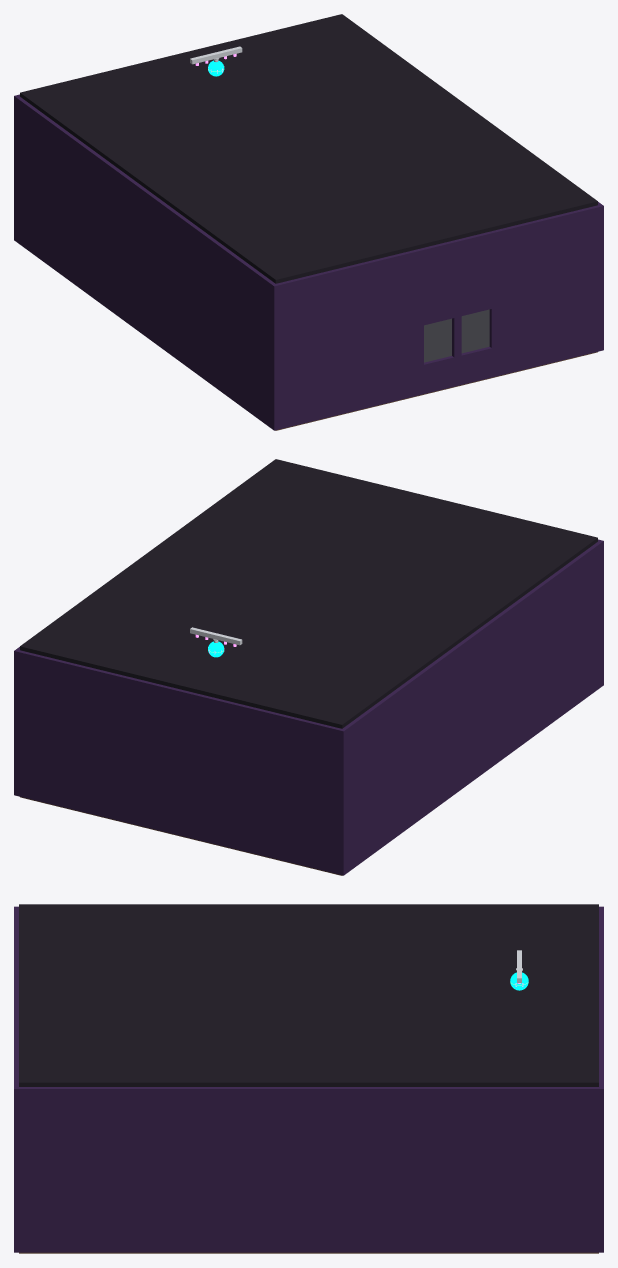
The model's file is monday-night-stage-arch-v2-world.glb.
3 views of the same model, one above another, from view 1: azimuth 30°, elevation 25°; view 2: azimuth 150°, elevation 25°; view 3: azimuth 270°, elevation 25° (orthographic). The views are drawn at different scales.
Parts seen in each view (by area): view 1: Arch_Ceiling, Arch_Wall_Left, Arch_RearWall_0, Arch_RearWall_2, Arch_DoorHeader_0.0, Arch_DoorHeader_3.0, Arch_RearLanding, Arch_RearWall_1, Arch_DoorSill_3.0, Arch_DoorSill_0.0, Decor_StageTruss, Arch_Wall_Right; view 2: Arch_Ceiling, Arch_Wall_Back, Arch_Wall_Left, Decor_StageTruss, Arch_Wall_Right; view 3: Arch_Ceiling, Arch_Wall_Right, Arch_Wall_Back, Arch_Floor.
Part boxes in pixels (x1,y1,x2,y2): Arch_Ceiling: (20,14,597,283); Arch_Wall_Left: (16,96,277,430); Arch_RearWall_0: (276,248,423,429); Arch_RearWall_2: (489,205,600,377); Arch_DoorHeader_0.0: (422,241,454,325); Arch_DoorHeader_3.0: (460,232,491,315); Arch_RearLanding: (424,309,489,362); Arch_RearWall_1: (452,239,461,386); Arch_DoorSill_3.0: (461,346,491,384); Arch_DoorSill_0.0: (424,356,454,393); Decor_StageTruss: (190,46,242,76); Arch_Wall_Right: (598,202,603,350); Arch_Ceiling: (20,459,597,728); Arch_Wall_Back: (14,649,345,875); Arch_Wall_Left: (340,540,603,875); Decor_StageTruss: (190,627,242,657); Arch_Wall_Right: (14,647,19,795); Arch_Ceiling: (19,904,598,1086); Arch_Wall_Right: (14,1087,601,1252); Arch_Wall_Back: (599,906,603,1252); Arch_Floor: (19,1252,598,1253).
Bounding box in the file's own units: 26.3 × 13.46 × 35.95.
